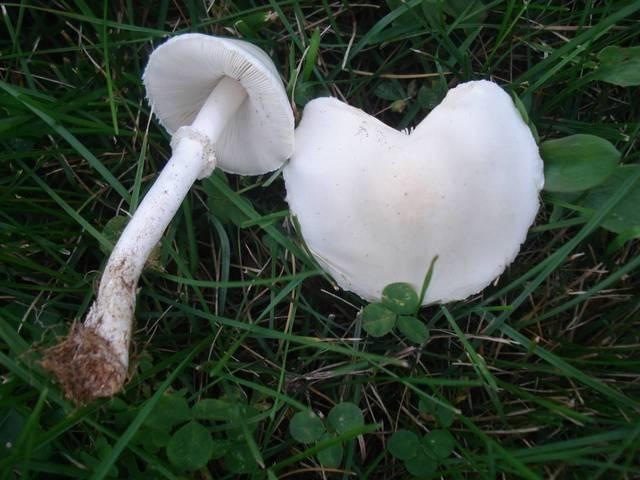Non-edible Mushroom: (29, 31, 296, 404), (281, 77, 545, 310)
